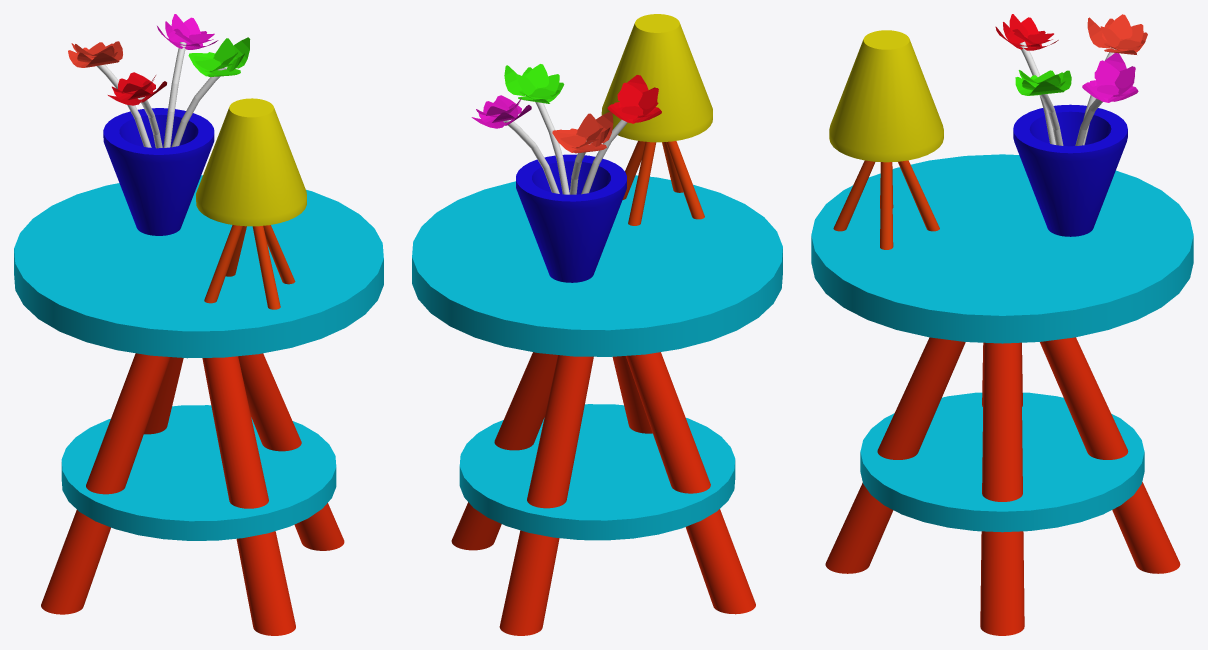
The model's file is TableLightandFlowers.fbx.
3 renders of one model, left to right at view 1: azimuth 30°, elevation 25°; view 2: azimuth 150°, elevation 25°; view 3: azimuth 270°, elevation 25°, orthographic. The views are drawn at different scales.
Visible parts, largest first — view 1: Cylinder.003, Cylinder.006, Cylinder.005; view 2: Cylinder.003, Cylinder.006, Cylinder.005; view 3: Cylinder.003, Cylinder.006, Cylinder.005.
Boxes of the visible parts, x1,y1,x2,y2 form: Cylinder.003: (14, 175, 383, 635); Cylinder.006: (68, 14, 250, 235); Cylinder.005: (196, 98, 306, 309); Cylinder.003: (412, 175, 782, 635); Cylinder.006: (471, 64, 661, 282); Cylinder.005: (601, 14, 712, 225); Cylinder.003: (811, 154, 1193, 635); Cylinder.006: (995, 14, 1147, 236); Cylinder.005: (829, 30, 943, 249).
Size of the model in its own units: 9.94 by 14.98 by 9.94.
